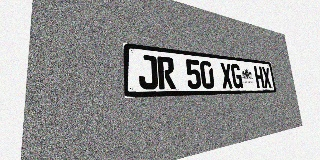0: (199, 60, 215, 89)
5: (185, 59, 202, 89)
G: (230, 64, 243, 88)
H: (254, 66, 265, 88)
J: (138, 54, 158, 90)
R: (157, 56, 176, 89)
X: (220, 62, 233, 89), (261, 67, 272, 88)
